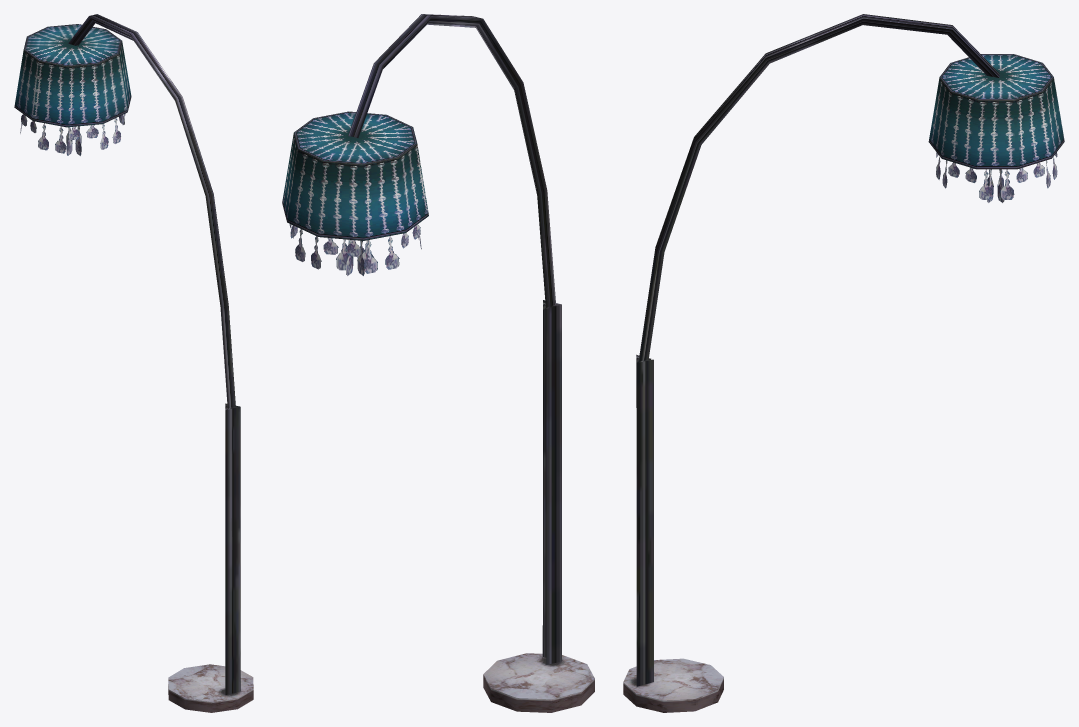
Rendered from furni_0200303_02.FBX.
3 views of the same model, side by side, from view 1: azimuth 30°, elevation 25°; view 2: azimuth 150°, elevation 25°; view 3: azimuth 270°, elevation 25° (orthographic). The views are drawn at different scales.
Visible parts, largest first — view 1: furni_0200303_02; view 2: furni_0200303_02; view 3: furni_0200303_02.
Part boxes in pixels (<box>): furni_0200303_02: <box>14,14,253,712</box>; furni_0200303_02: <box>282,14,594,712</box>; furni_0200303_02: <box>623,14,1064,712</box>.
Bounding box in the file's own units: 43.62 × 252 × 149.
2 materials, 2 textured.
